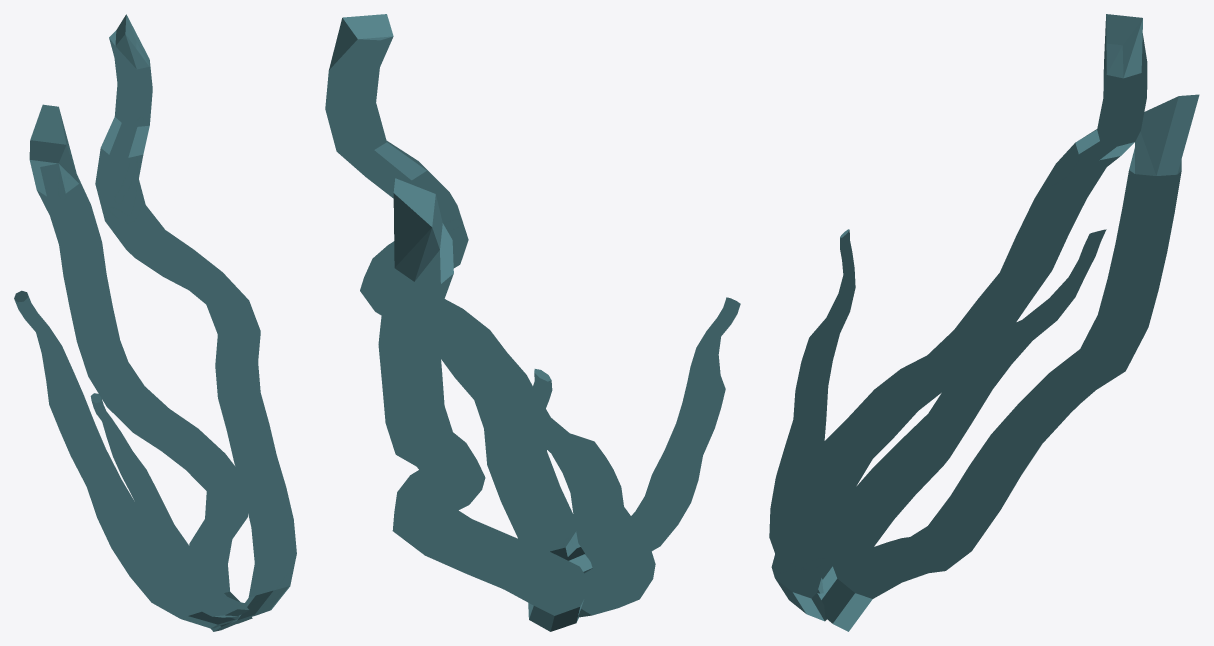
The model's file is plant2.glb.
3 renders of one model, left to right at view 1: azimuth 30°, elevation 25°; view 2: azimuth 150°, elevation 25°; view 3: azimuth 270°, elevation 25°, orthographic. The views are drawn at different scales.
Visible parts, largest first — view 1: node_id4; view 2: node_id4; view 3: node_id4.
Part boxes in pixels (x1=…): node_id4: x1=14, y1=14, x2=296, y2=631; node_id4: x1=325, y1=14, x2=740, y2=631; node_id4: x1=769, y1=14, x2=1199, y2=631.
Size of the model in its own units: 0.2059 by 0.4799 by 0.2995.
1 material, 1 textured.
